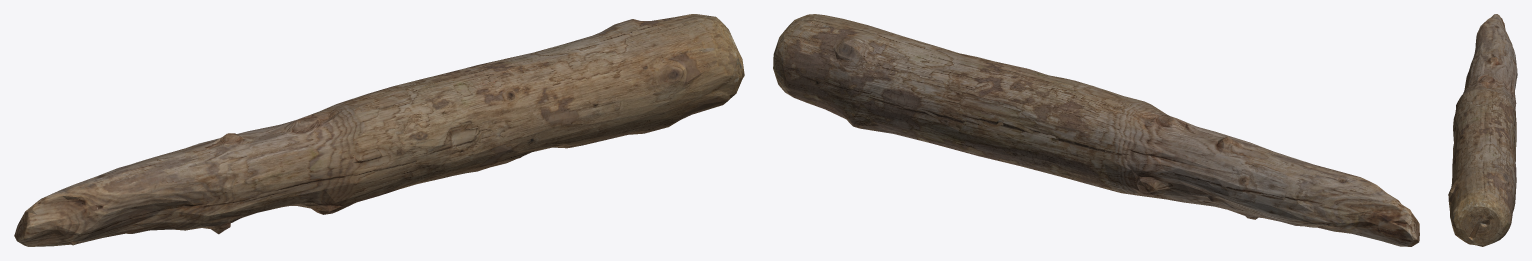
Rendered from log.glb.
3 renders of one model, left to right at view 1: azimuth 30°, elevation 25°; view 2: azimuth 150°, elevation 25°; view 3: azimuth 270°, elevation 25°, orthographic. The views are drawn at different scales.
Bounding box in the file's own units: 2.5 × 0.346 × 0.3455.
1 material, 1 textured.
